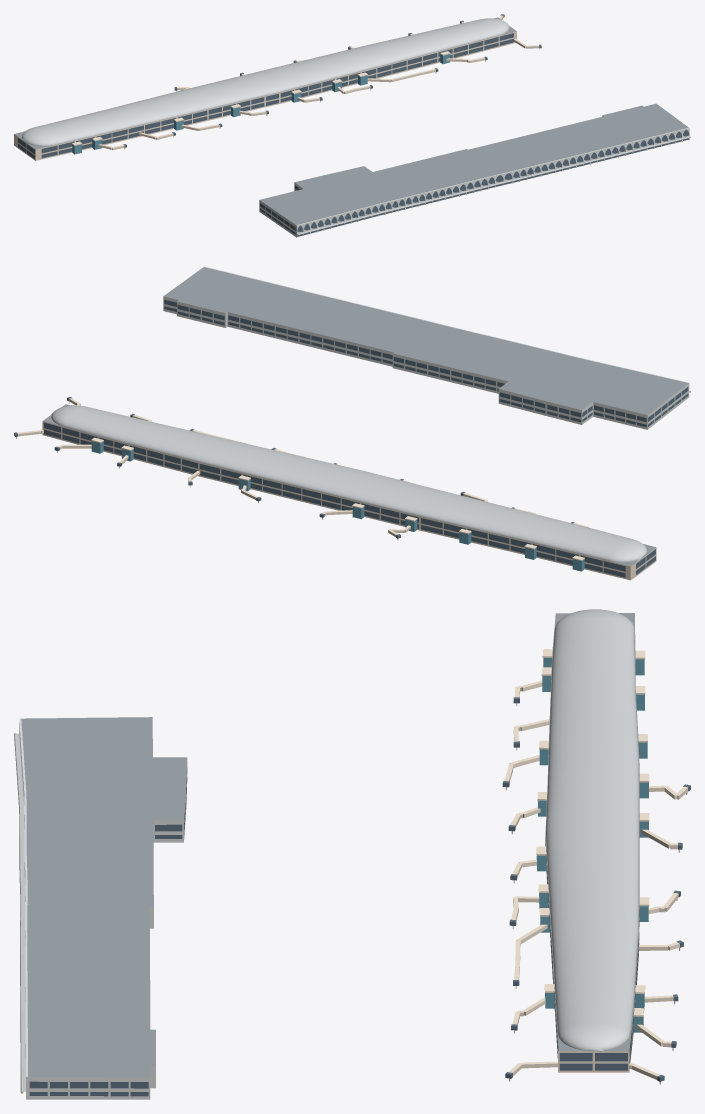
File: dubai-dxb-terminal-1.detail.glb
3 renders of one model, top to bottom at view 1: azimuth 30°, elevation 25°; view 2: azimuth 150°, elevation 25°; view 3: azimuth 270°, elevation 25°, orthographic. The views are drawn at different scales.
Parts seen in each view (by area): view 1: Dubai International Airport Terminal 1 and Concourse C; view 2: Dubai International Airport Terminal 1 and Concourse C; view 3: Dubai International Airport Terminal 1 and Concourse C.
Boxes of the visible parts, x1,y1,x2,y2 form: Dubai International Airport Terminal 1 and Concourse C: (14, 14, 690, 237); Dubai International Airport Terminal 1 and Concourse C: (14, 266, 690, 580); Dubai International Airport Terminal 1 and Concourse C: (14, 609, 690, 1099).
Bounding box in the file's own units: 841 × 28 × 517.
